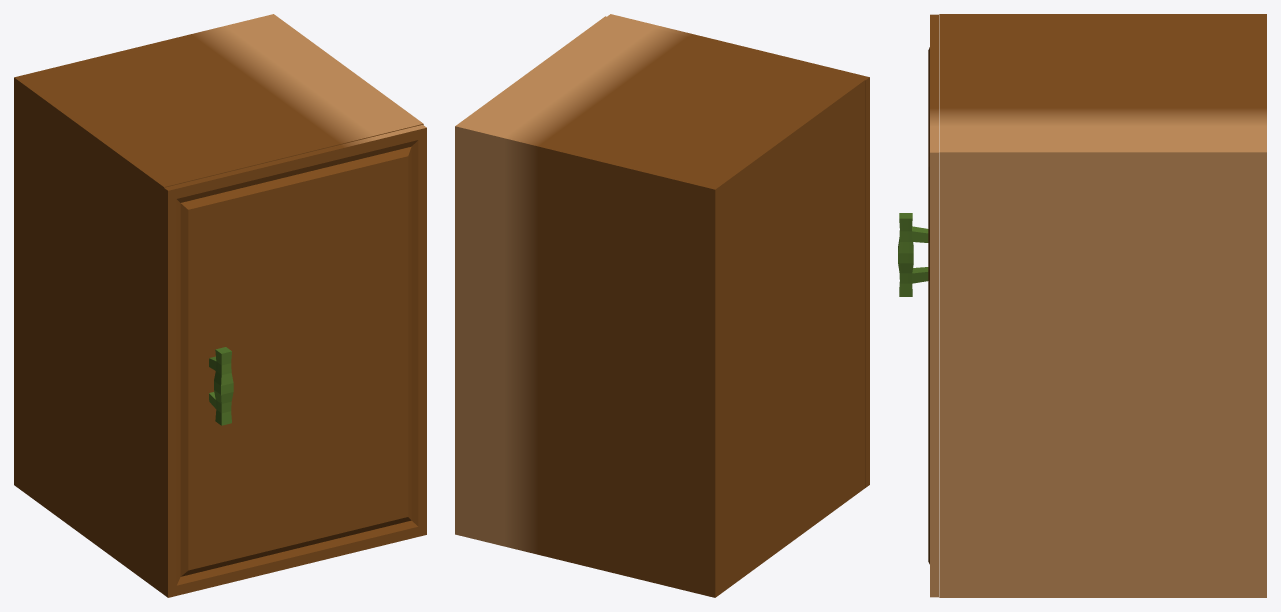
File: KitchenTabletop1_06.fbx
The picture shows the model from 3 angles, left to right: view 1: azimuth 30°, elevation 25°; view 2: azimuth 150°, elevation 25°; view 3: azimuth 270°, elevation 25°; orthographic projection. The views are drawn at different scales.
Parts seen in each view (by area): view 1: KitchenTabletop1_06; view 2: KitchenTabletop1_06; view 3: KitchenTabletop1_06.
Part boxes in pixels (box(x1,y1,x2,y2)): KitchenTabletop1_06: box(14, 14, 426, 597); KitchenTabletop1_06: box(455, 14, 869, 597); KitchenTabletop1_06: box(898, 14, 1266, 597).
Size of the model in its own units: 0.3985 by 0.5974 by 0.4483.
